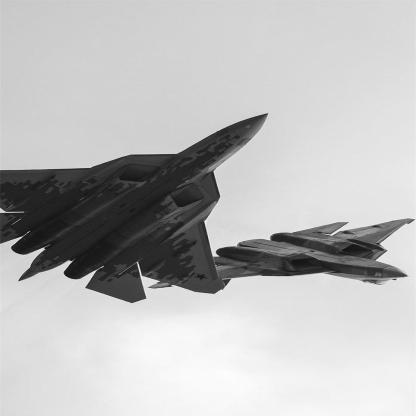Su57: (2, 114, 270, 304), (148, 219, 416, 290)
